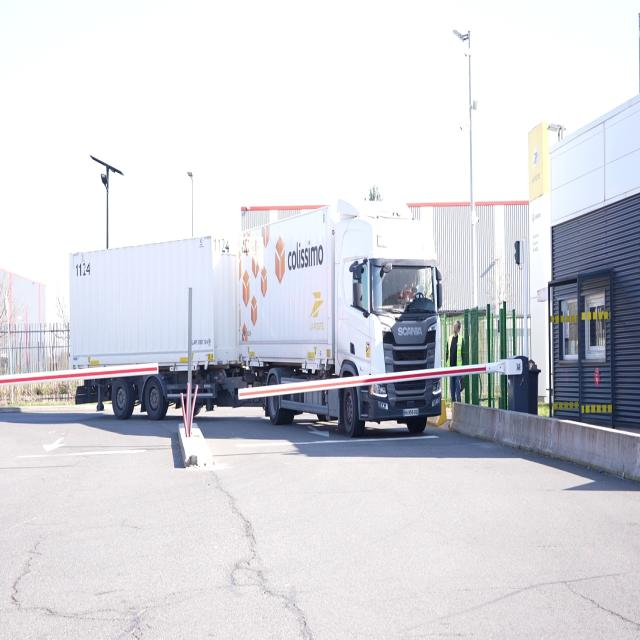Code: (70, 256, 97, 285)
